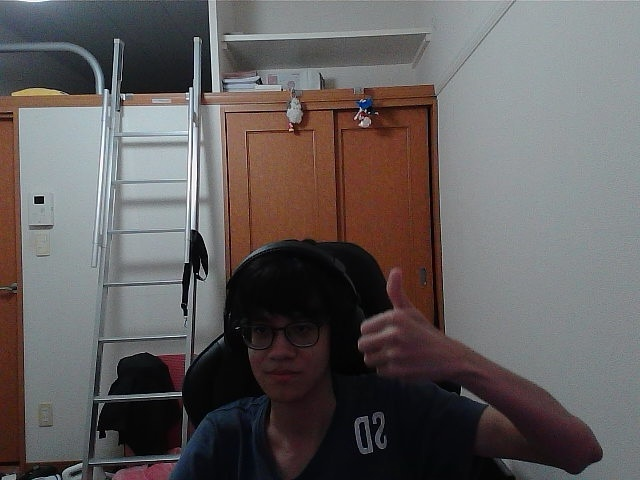thumb_up: (365, 278, 440, 371)
